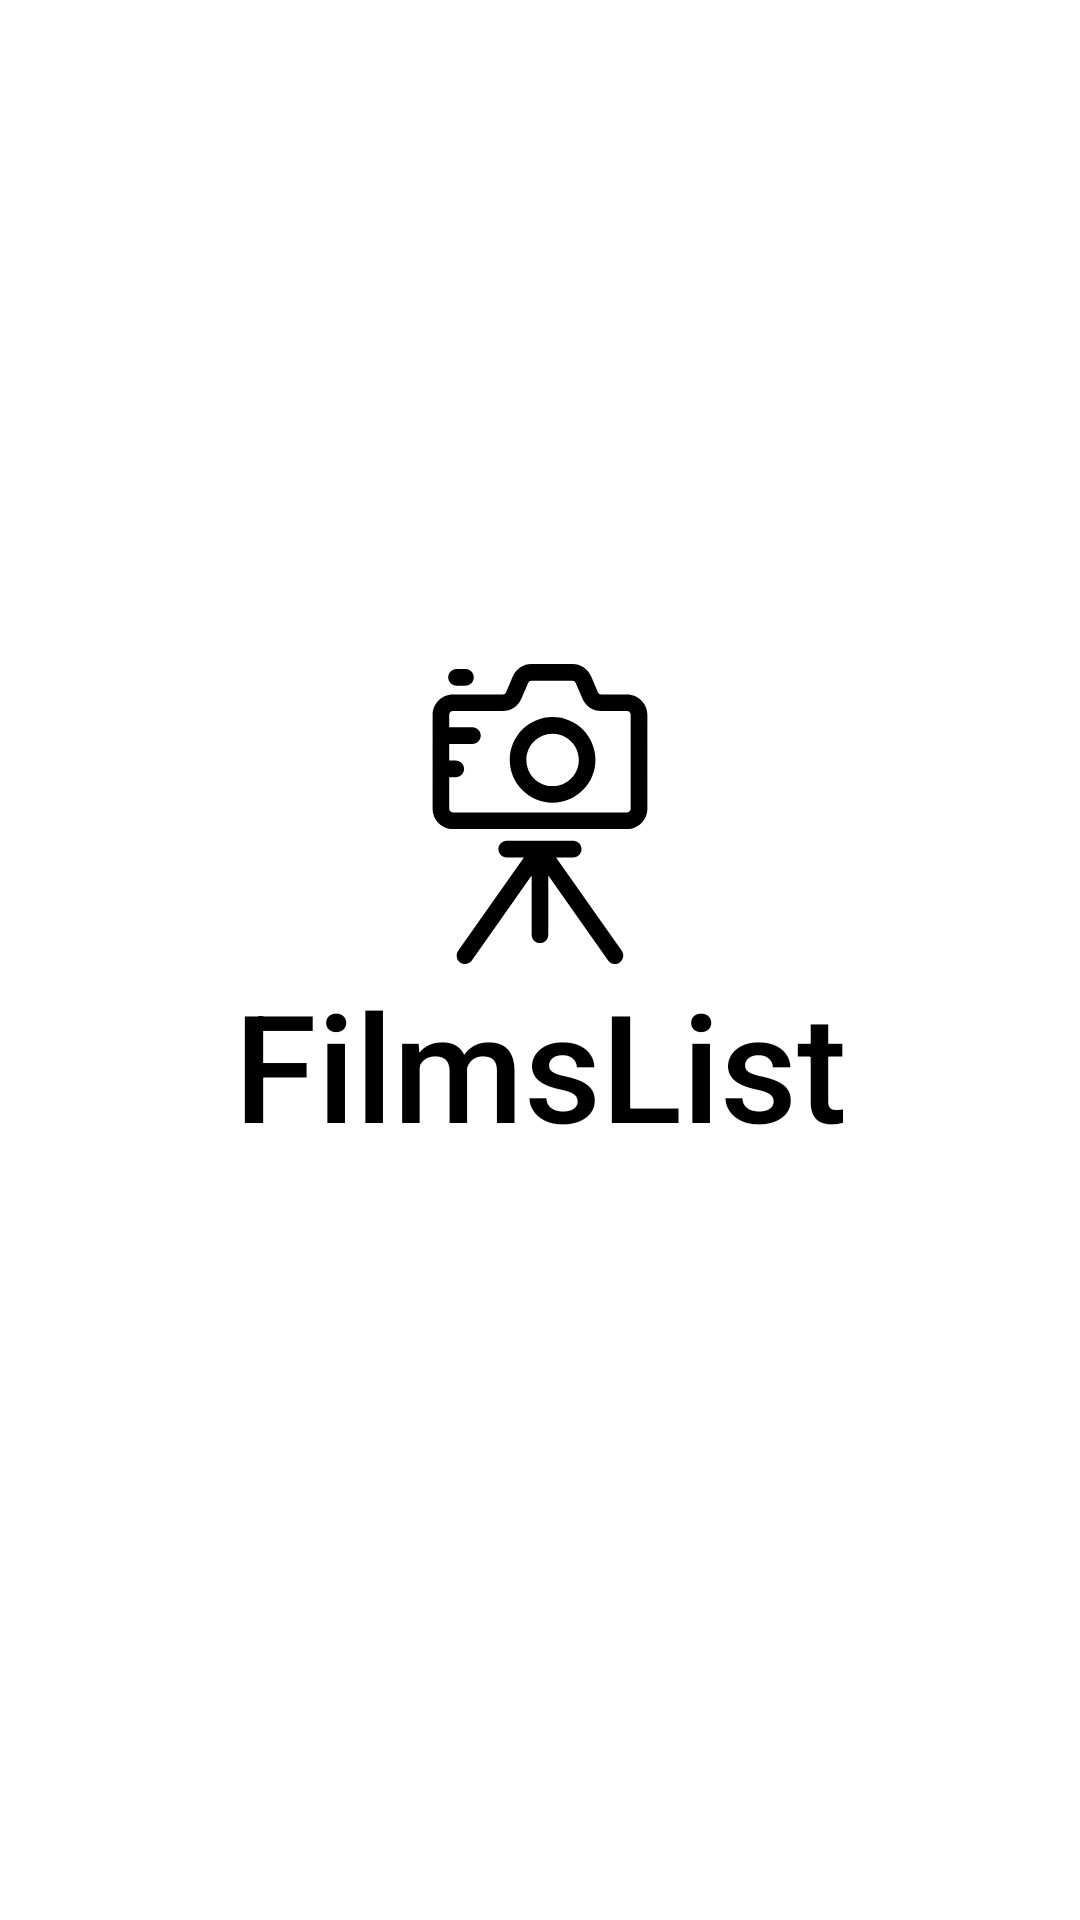

Where icons sit on this 1080 × 1920 app screen, as (x1, y1, x2, y2):
photo camera: (432, 664, 648, 964)
